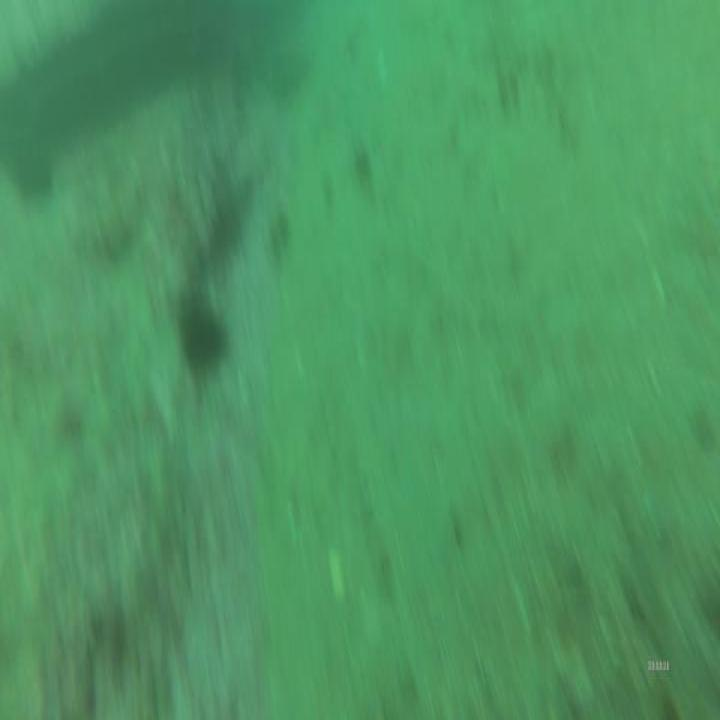echinus: (172, 274, 231, 375)
